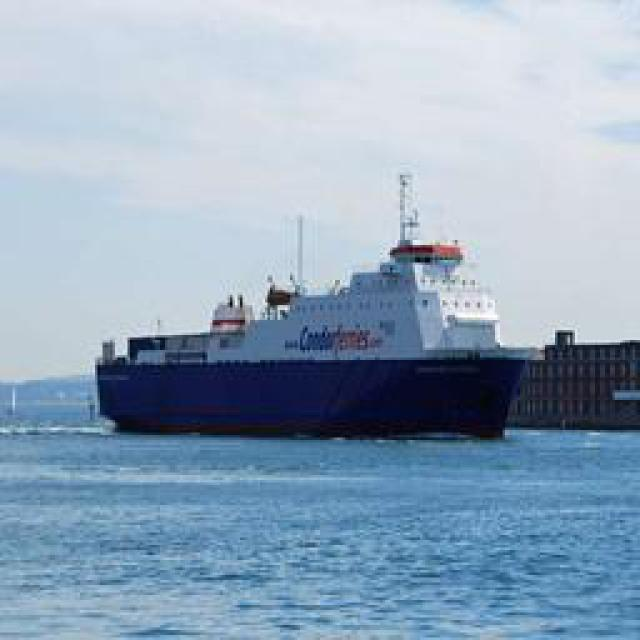Ship: (92, 171, 540, 446)
